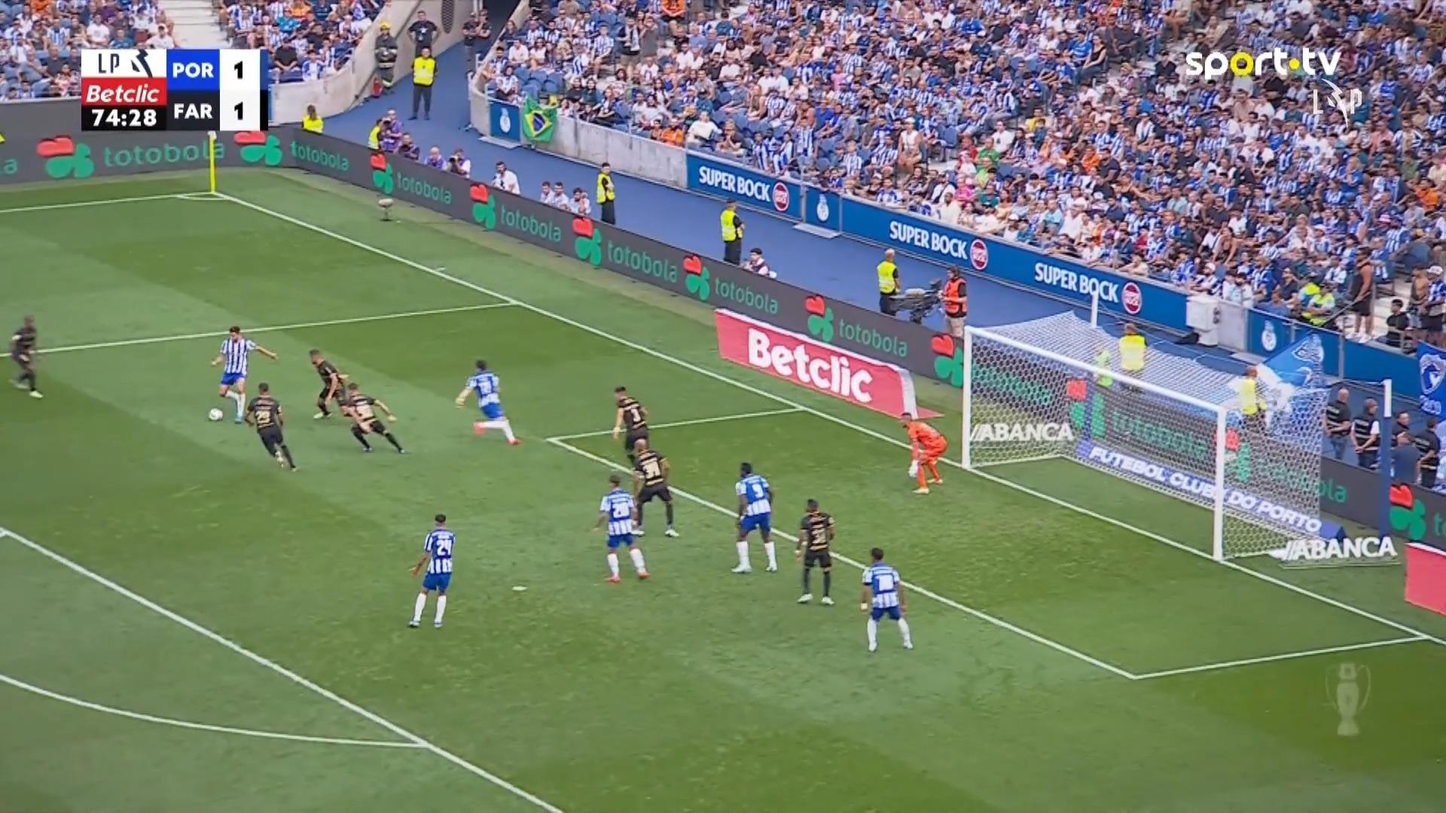ball: (207, 407, 222, 421)
goalkeeper: (898, 411, 947, 494)
player: (209, 324, 278, 424), (591, 473, 650, 583), (454, 358, 521, 446), (859, 546, 914, 652), (406, 513, 455, 629), (730, 461, 778, 573), (628, 437, 680, 537), (340, 381, 407, 454), (243, 381, 297, 471), (794, 497, 836, 604), (611, 384, 649, 469), (308, 348, 351, 419), (8, 314, 43, 398)
